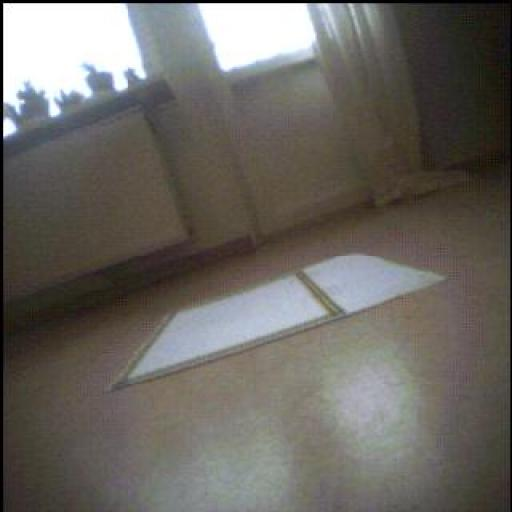Pad: (115, 256, 444, 389)
